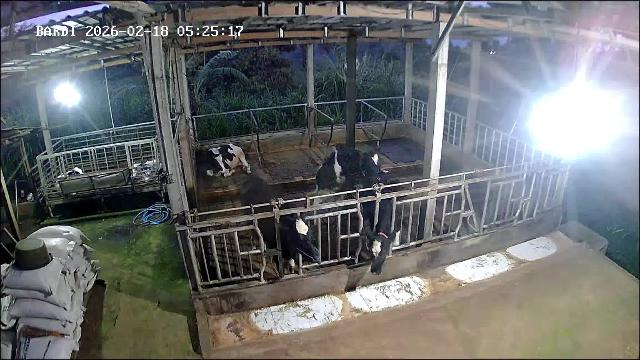mounting: (306, 143, 383, 227)
